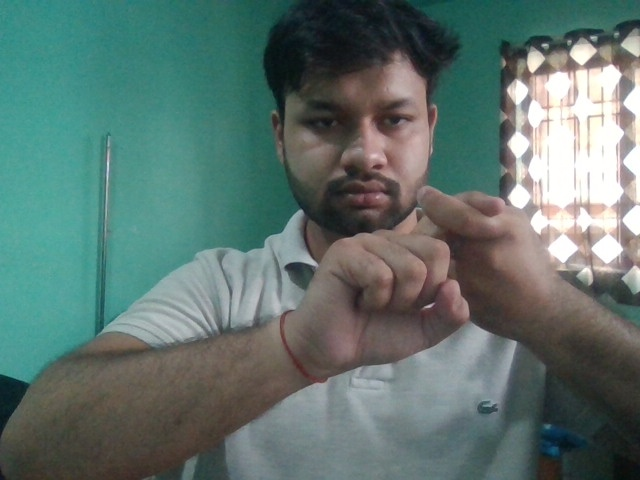Friend: (280, 182, 567, 383)
